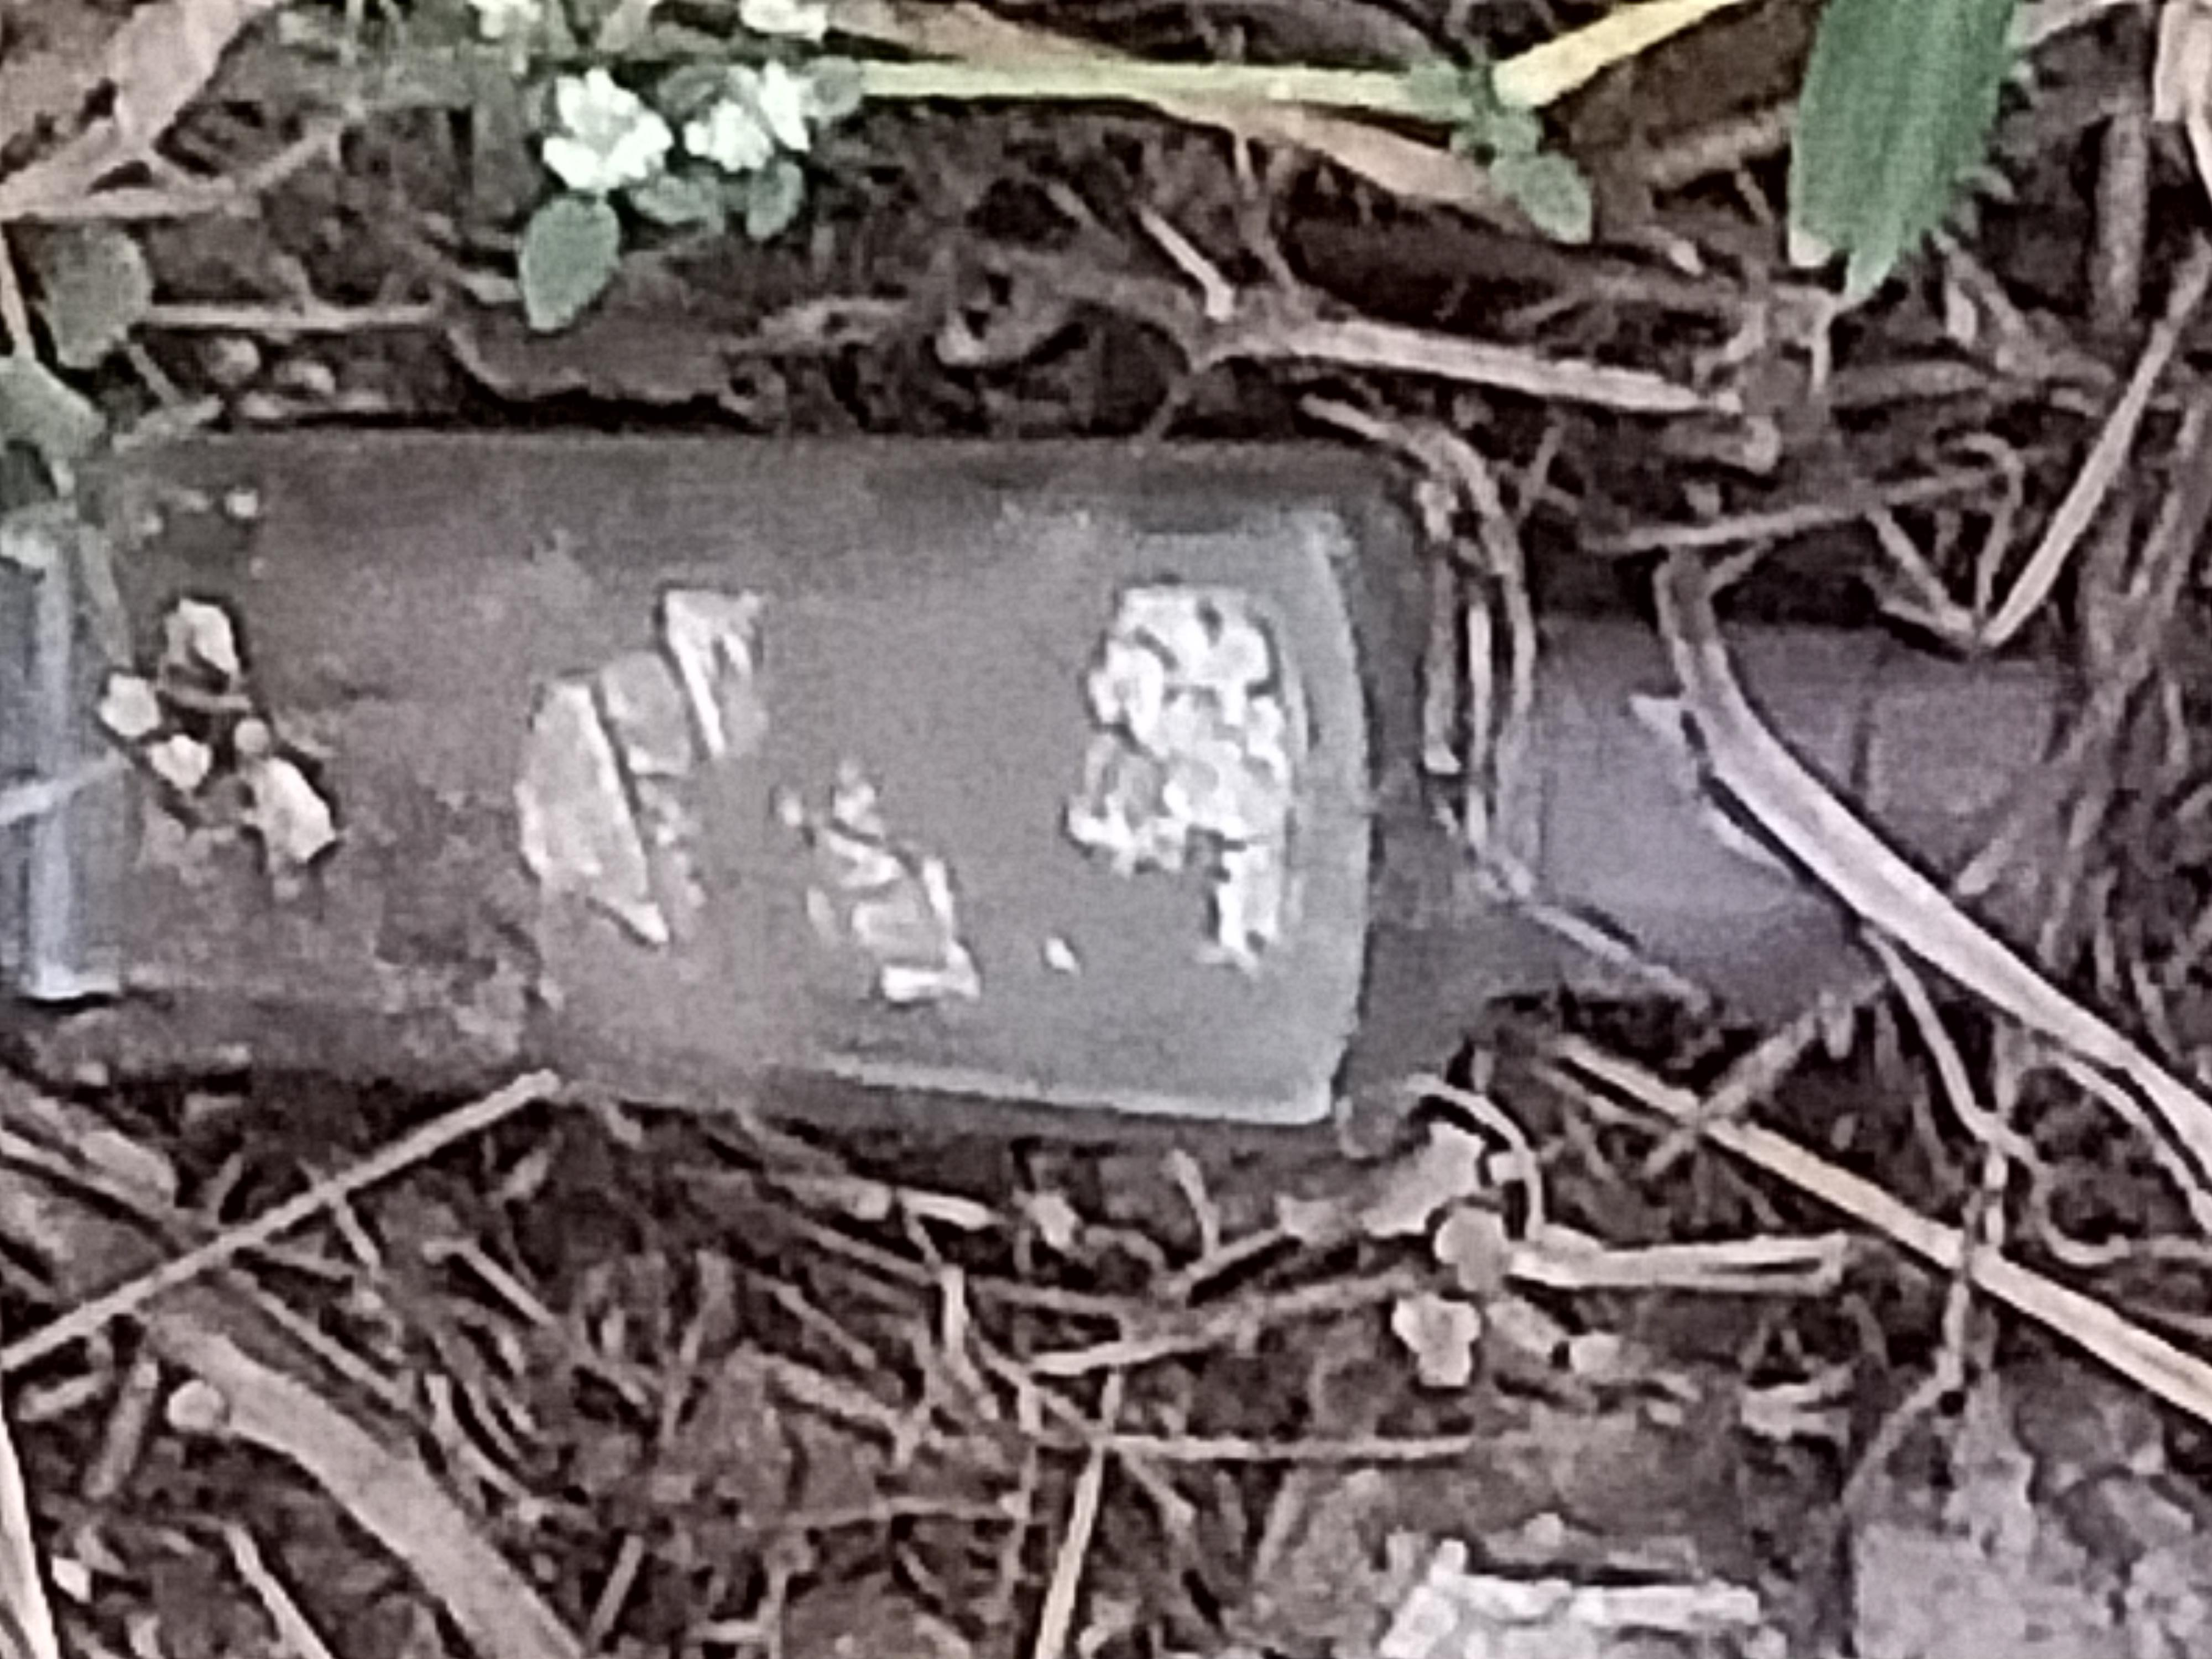trash: (0, 394, 2083, 1173)
